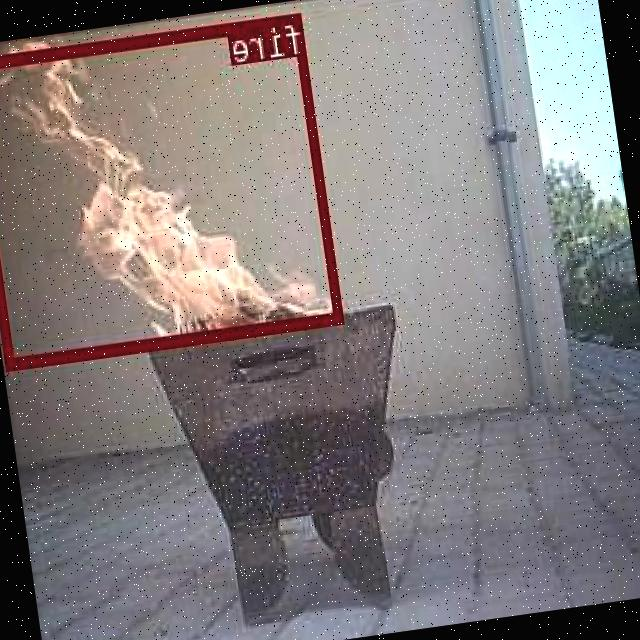fire: (0, 11, 345, 367)
